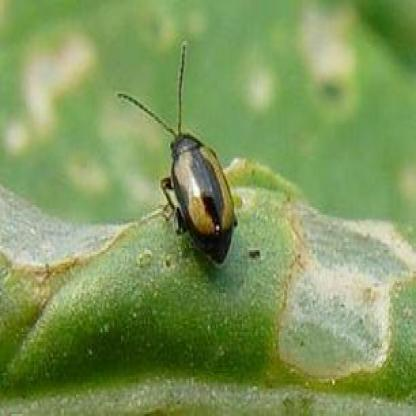beetle: (123, 48, 248, 267)
